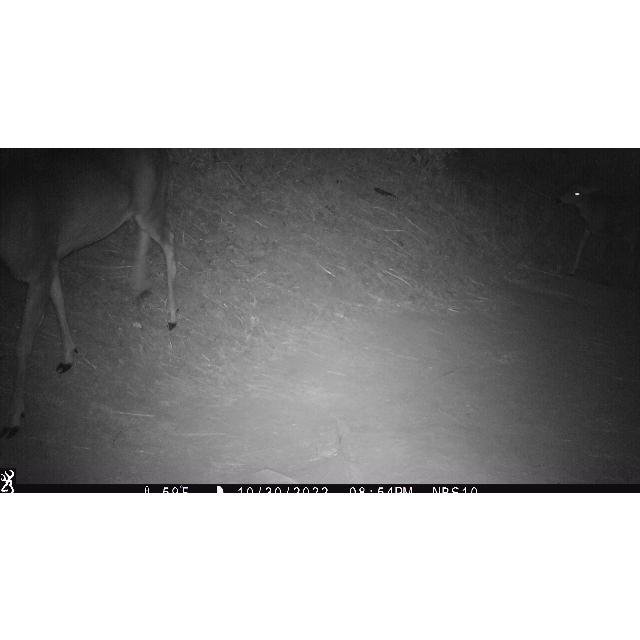animals: (0, 147, 184, 447)
